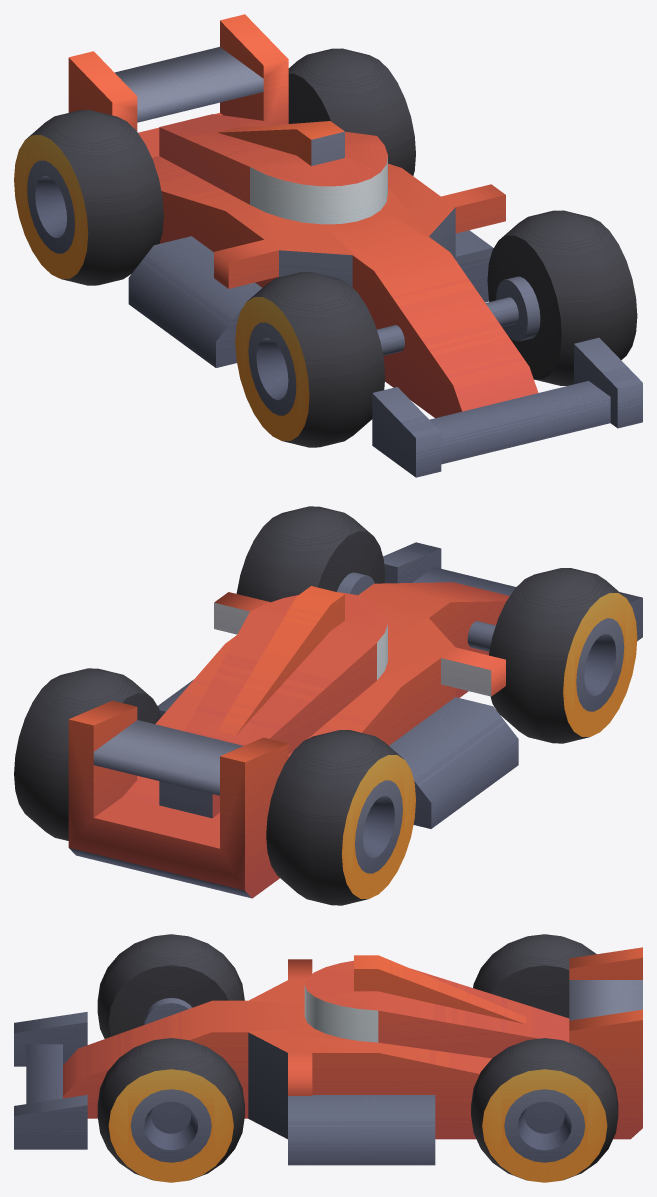
The model's file is race2.glb.
3 renders of one model, top to bottom at view 1: azimuth 30°, elevation 25°; view 2: azimuth 150°, elevation 25°; view 3: azimuth 270°, elevation 25°, orthographic. The views are drawn at different scales.
Visible parts, largest first — view 1: body, wheel-back-right, wheel-front-right, wheel-front-left, wheel-back-left, body.002; view 2: body, wheel-back-right, wheel-front-right, wheel-back-left, wheel-front-left, body.002; view 3: body, wheel-back-left, wheel-front-left, wheel-front-right, wheel-back-right, body.001.
Part boxes in pixels (x1,y1,x2,y2): body: (68, 14, 642, 477); wheel-back-right: (14, 110, 163, 285); wheel-front-right: (235, 272, 385, 447); wheel-front-left: (487, 210, 637, 385); wheel-back-left: (288, 48, 415, 175); body.002: (496, 276, 540, 341); body: (68, 542, 642, 898); wheel-back-right: (266, 730, 415, 905); wheel-front-right: (489, 568, 637, 743); wheel-back-left: (14, 668, 161, 840); wheel-front-left: (236, 506, 385, 602); body.002: (336, 572, 374, 595); body: (14, 947, 642, 1165); wheel-back-left: (471, 1038, 618, 1182); wheel-front-left: (97, 1038, 244, 1182); wheel-front-right: (97, 934, 244, 1038); wheel-back-right: (473, 934, 596, 1018); body.001: (144, 998, 192, 1024).
Bounding box in the file's own units: 1.3 × 0.7325 × 2.56.
1 material, 1 textured.
